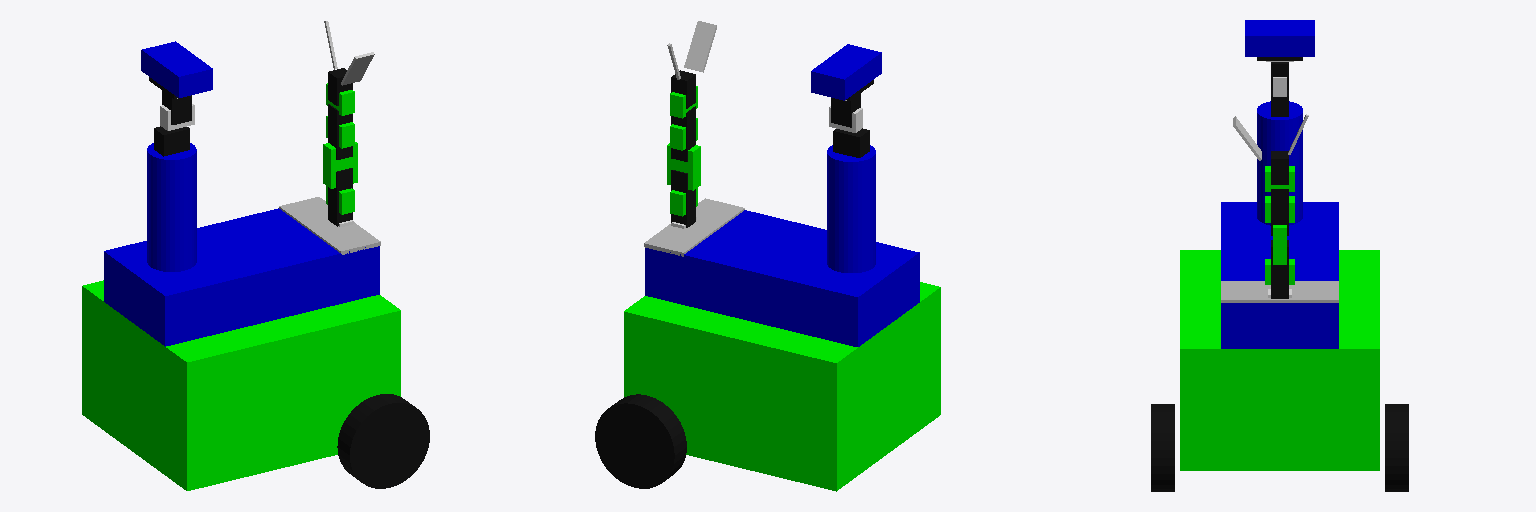
--- Render facts (derived) ---
3 views of the same robot in one strip: view 1: azimuth 30°, elevation 25°; view 2: azimuth 150°, elevation 25°; view 3: azimuth 270°, elevation 25° (orthographic).
Robot: robbie — 29 links, 28 joints (8 revolute, 20 fixed); root link base_link; default pose: all joints at 0.
Visible links, largest first — view 1: base_link, deck_link, l_wheel_link, torso_link, kinect_link, arm_shoulder_tilt_link, elbow_bracket, head_pan_link, head_tilt_link, right_finger_link, gripper_link; view 2: base_link, deck_link, r_wheel_link, torso_link, kinect_link, arm_shoulder_tilt_link, right_finger_link, head_pan_link, elbow_bracket, head_tilt_link, gripper_link; view 3: base_link, deck_link, torso_link, kinect_link, arm_shoulder_tilt_link, r_wheel_link, l_wheel_link, gripper_link, elbow_bracket.
Boxes of the visible links, bbox=[...] form: base_link: bbox=[82, 280, 400, 490]; deck_link: bbox=[104, 208, 379, 346]; l_wheel_link: bbox=[337, 394, 429, 488]; torso_link: bbox=[147, 143, 196, 271]; kinect_link: bbox=[141, 41, 212, 97]; arm_shoulder_tilt_link: bbox=[279, 197, 380, 254]; elbow_bracket: bbox=[323, 142, 357, 188]; head_pan_link: bbox=[154, 126, 189, 156]; head_tilt_link: bbox=[162, 91, 191, 124]; right_finger_link: bbox=[341, 52, 374, 85]; gripper_link: bbox=[328, 68, 352, 105]; base_link: bbox=[624, 282, 940, 491]; deck_link: bbox=[645, 210, 919, 346]; r_wheel_link: bbox=[595, 394, 686, 488]; torso_link: bbox=[827, 145, 875, 272]; kinect_link: bbox=[811, 44, 881, 100]; arm_shoulder_tilt_link: bbox=[644, 198, 744, 256]; right_finger_link: bbox=[684, 21, 716, 72]; head_pan_link: bbox=[833, 128, 869, 157]; elbow_bracket: bbox=[667, 143, 700, 190]; head_tilt_link: bbox=[831, 93, 860, 127]; gripper_link: bbox=[671, 70, 695, 108]; base_link: bbox=[1180, 250, 1379, 470]; deck_link: bbox=[1221, 202, 1338, 348]; torso_link: bbox=[1257, 101, 1302, 225]; kinect_link: bbox=[1245, 20, 1314, 56]; arm_shoulder_tilt_link: bbox=[1221, 281, 1338, 302]; r_wheel_link: bbox=[1385, 404, 1408, 491]; l_wheel_link: bbox=[1151, 404, 1174, 491]; gripper_link: bbox=[1271, 151, 1288, 184]; elbow_bracket: bbox=[1273, 225, 1286, 264].
Bounding box of the posed robot: 0.425 × 0.4401 × 0.7391 m (x, y, z).
Geometry: primitives only (box / cylinder / sphere), no mesh files.

The robot description file, URDF, robot "robbie":
<?xml version="1.0" ?>
<!-- =================================================================================== -->
<!-- |    This document was autogenerated by xacro from robbie.xacro                   | -->
<!-- |    EDITING THIS FILE BY HAND IS NOT RECOMMENDED                                 | -->
<!-- =================================================================================== -->
<!-- XML namespaces -->
<robot name="robbie" xmlns:controller="http://playerstage.sourceforge.net/gazebo/xmlschema/#controller" xmlns:interface="http://playerstage.sourceforge.net/gazebo/xmlschema/#interface" xmlns:sensor="http://playerstage.sourceforge.net/gazebo/xmlschema/#sensor" xmlns:xacro="http://ros.org/wiki/xacro">
  <!-- ============================  A Few Color Macros  ============================ -->
  <!-- ============================   A Few Shape Macros  ============================ -->
  <!-- ============================   Link Definitions  ============================ -->
  <link name="base_link">
    <visual>
      <origin rpy="0 0 0" xyz="0 0 .17"/>
      <geometry>
        <box size="0.4 0.34 0.23"/>
      </geometry>
      <material name="green1">
        <color rgba="0 1 0 1.0"/>
      </material>
    </visual>
    <collision>
      <origin rpy="0 0 0" xyz="0 0 .17"/>
      <geometry>
        <box size="0.4 0.34 0.23"/>
      </geometry>
    </collision>
    <inertial>
      <mass value="0.1"/>
      <inertia ixx="0.001" ixy="0.0" ixz="0.0" iyy="0.001" iyz="0.0" izz="0.001"/>
    </inertial>
  </link>
  <gazebo reference="base_link">
    <material>Gazebo/FlatBlack</material>
    <selfCollide>false</selfCollide>
    <turnGravityOff>true</turnGravityOff>
  </gazebo>
  <link name="r_wheel_link">
    <visual>
      <origin rpy="1.57 0 0" xyz="0 0 0"/>
      <geometry>
        <cylinder length="0.04" radius="0.075"/>
      </geometry>
      <material name="black">
        <color rgba="0.1 0.1 0.1 1.0"/>
      </material>
    </visual>
    <collision>
      <origin rpy="1.57 0 0" xyz="0 0 0"/>
      <geometry>
        <cylinder length="0.04" radius="0.075"/>
      </geometry>
    </collision>
    <inertial>
      <mass value="0.1"/>
      <inertia ixx="0.001" ixy="0.0" ixz="0.0" iyy="0.001" iyz="0.0" izz="0.001"/>
    </inertial>
  </link>
  <gazebo reference="r_wheel_link">
    <material>Gazebo/FlatBlack</material>
    <selfCollide>false</selfCollide>
    <turnGravityOff>true</turnGravityOff>
  </gazebo>
  <link name="l_wheel_link">
    <visual>
      <origin rpy="1.57 0 0" xyz="0 0 0"/>
      <geometry>
        <cylinder length="0.04" radius="0.075"/>
      </geometry>
      <material name="black">
        <color rgba="0.1 0.1 0.1 1.0"/>
      </material>
    </visual>
    <collision>
      <origin rpy="1.57 0 0" xyz="0 0 0"/>
      <geometry>
        <cylinder length="0.04" radius="0.075"/>
      </geometry>
    </collision>
    <inertial>
      <mass value="0.1"/>
      <inertia ixx="0.001" ixy="0.0" ixz="0.0" iyy="0.001" iyz="0.0" izz="0.001"/>
    </inertial>
  </link>
  <gazebo reference="l_wheel_link">
    <material>Gazebo/FlatBlack</material>
    <selfCollide>false</selfCollide>
    <turnGravityOff>true</turnGravityOff>
  </gazebo>
  <link name="deck_link">
    <visual>
      <origin rpy="0 0 0" xyz="0 0 0"/>
      <geometry>
        <box size="0.4 0.2 0.09"/>
      </geometry>
      <material name="blue1">
        <color rgba="0 0 0.9 1.0"/>
      </material>
    </visual>
    <collision>
      <origin rpy="0 0 0" xyz="0 0 0"/>
      <geometry>
        <box size="0.4 0.2 0.09"/>
      </geometry>
    </collision>
    <inertial>
      <mass value="0.1"/>
      <inertia ixx="0.001" ixy="0.0" ixz="0.0" iyy="0.001" iyz="0.0" izz="0.001"/>
    </inertial>
  </link>
  <gazebo reference="deck_link">
    <material>Gazebo/FlatBlack</material>
    <selfCollide>false</selfCollide>
    <turnGravityOff>true</turnGravityOff>
  </gazebo>
  <link name="arm_shoulder_tilt_link">
    <visual>
      <origin rpy="0 0 0" xyz="0 0 0"/>
      <geometry>
        <box size="0.075 0.2 0.007"/>
      </geometry>
      <material name="grey1">
        <color rgba="0.75 0.75 0.75 1.0"/>
      </material>
    </visual>
    <collision>
      <origin rpy="0 0 0" xyz="0 0 0"/>
      <geometry>
        <box size="0.075 0.2 0.007"/>
      </geometry>
    </collision>
    <inertial>
      <mass value="2.91"/>
      <inertia ixx="0.001" ixy="0.0" ixz="0.0" iyy="0.001" iyz="0.0" izz="0.001"/>
    </inertial>
  </link>
  <gazebo reference="arm_shoulder_tilt_link">
    <material>Gazebo/Grey</material>
    <selfCollide>false</selfCollide>
    <turnGravityOff>true</turnGravityOff>
  </gazebo>
  <link name="arm_pan_tilt_bracket">
    <visual>
      <origin rpy="0 0 0" xyz="0 0 0"/>
      <geometry>
        <box size="0.025 0.04 0.006"/>
      </geometry>
      <material name="bracket_color">
        <color rgba="0.9 0.9 0.9 1.0"/>
      </material>
    </visual>
    <collision>
      <origin rpy="0 0 0" xyz="0 0 0"/>
      <geometry>
        <box size="0.025 0.04 0.006"/>
      </geometry>
    </collision>
    <inertial>
      <mass value="0.02"/>
      <inertia ixx="0.001" ixy="0.0" ixz="0.0" iyy="0.001" iyz="0.0" izz="0.001"/>
    </inertial>
  </link>
  <gazebo reference="arm_pan_tilt_bracket">
    <material>Gazebo/WhiteEmissive</material>
    <selfCollide>false</selfCollide>
    <turnGravityOff>true</turnGravityOff>
  </gazebo>
  <link name="elbow_tilt_link">
    <visual>
      <origin rpy="0 0 0" xyz="0 0 0"/>
      <geometry>
        <box size="0.03 0.03 0.05"/>
      </geometry>
      <material name="ax12_color">
        <color rgba="0.1 0.1 0.1 1.0"/>
      </material>
    </visual>
    <collision>
      <origin rpy="0 0 0" xyz="0 0 0"/>
      <geometry>
        <box size="0.03 0.03 0.05"/>
      </geometry>
    </collision>
    <inertial>
      <mass value="0.055"/>
      <inertia ixx="0.001" ixy="0.0" ixz="0.0" iyy="0.001" iyz="0.0" izz="0.001"/>
    </inertial>
  </link>
  <gazebo reference="elbow_tilt_link">
    <material>Gazebo/FlatBlack</material>
    <selfCollide>false</selfCollide>
    <turnGravityOff>true</turnGravityOff>
  </gazebo>
  <link name="arm_tilt_link">
    <visual>
      <origin rpy="0 0 0" xyz="0 0 0"/>
      <geometry>
        <box size="0.03 0.03 0.05"/>
      </geometry>
      <material name="ax12_color">
        <color rgba="0.1 0.1 0.1 1.0"/>
      </material>
    </visual>
    <collision>
      <origin rpy="0 0 0" xyz="0 0 0"/>
      <geometry>
        <box size="0.03 0.03 0.05"/>
      </geometry>
    </collision>
    <inertial>
      <mass value="0.055"/>
      <inertia ixx="0.001" ixy="0.0" ixz="0.0" iyy="0.001" iyz="0.0" izz="0.001"/>
    </inertial>
  </link>
  <gazebo reference="arm_tilt_link">
    <material>Gazebo/FlatBlack</material>
    <selfCollide>false</selfCollide>
    <turnGravityOff>true</turnGravityOff>
  </gazebo>
  <link name="arm_bracket">
    <visual>
      <origin rpy="0 0 0" xyz="0 0 0.021"/>
      <geometry>
        <box size="0.025 0.05 0.038"/>
      </geometry>
      <material name="green1">
        <color rgba="0 1 0 1.0"/>
      </material>
    </visual>
    <collision>
      <origin rpy="0 0 0" xyz="0 0 0.021"/>
      <geometry>
        <box size="0.025 0.05 0.038"/>
      </geometry>
    </collision>
    <inertial>
      <mass value="0.05"/>
      <inertia ixx="0.001" ixy="0.0" ixz="0.0" iyy="0.001" iyz="0.0" izz="0.001"/>
    </inertial>
  </link>
  <gazebo reference="arm_bracket">
    <material>Gazebo/WhiteEmissive</material>
    <selfCollide>false</selfCollide>
    <turnGravityOff>true</turnGravityOff>
  </gazebo>
  <link name="elbow_bracket">
    <visual>
      <origin rpy="0 0 0" xyz="0 0 0.021"/>
      <geometry>
        <box size="0.05 0.025 0.07"/>
      </geometry>
      <material name="green1">
        <color rgba="0 1 0 1.0"/>
      </material>
    </visual>
    <collision>
      <origin rpy="0 0 0" xyz="0 0 0.021"/>
      <geometry>
        <box size="0.05 0.025 0.07"/>
      </geometry>
    </collision>
    <inertial>
      <mass value="0.05"/>
      <inertia ixx="0.001" ixy="0.0" ixz="0.0" iyy="0.001" iyz="0.0" izz="0.001"/>
    </inertial>
  </link>
  <gazebo reference="elbow_bracket">
    <material>Gazebo/WhiteEmissive</material>
    <selfCollide>false</selfCollide>
    <turnGravityOff>true</turnGravityOff>
  </gazebo>
  <link name="wrist_pan_link">
    <visual>
      <origin rpy="0 0 0" xyz="0 0 0.021"/>
      <geometry>
        <box size="0.03 0.03 0.05"/>
      </geometry>
      <material name="ax12_color">
        <color rgba="0.1 0.1 0.1 1.0"/>
      </material>
    </visual>
    <collision>
      <origin rpy="0 0 0" xyz="0 0 0.021"/>
      <geometry>
        <box size="0.03 0.03 0.05"/>
      </geometry>
    </collision>
    <inertial>
      <mass value="0.055"/>
      <inertia ixx="0.001" ixy="0.0" ixz="0.0" iyy="0.001" iyz="0.0" izz="0.001"/>
    </inertial>
  </link>
  <gazebo reference="wrist_pan_link">
    <material>Gazebo/FlatBlack</material>
    <selfCollide>false</selfCollide>
    <turnGravityOff>true</turnGravityOff>
  </gazebo>
  <link name="wrist_bracket">
    <visual>
      <origin rpy="0 0 0" xyz="0 0 0.021"/>
      <geometry>
        <box size="0.025 0.05 0.038"/>
      </geometry>
      <material name="green1">
        <color rgba="0 1 0 1.0"/>
      </material>
    </visual>
    <collision>
      <origin rpy="0 0 0" xyz="0 0 0.021"/>
      <geometry>
        <box size="0.025 0.05 0.038"/>
      </geometry>
    </collision>
    <inertial>
      <mass value="0.05"/>
      <inertia ixx="0.001" ixy="0.0" ixz="0.0" iyy="0.001" iyz="0.0" izz="0.001"/>
    </inertial>
  </link>
  <gazebo reference="wrist_bracket">
    <material>Gazebo/WhiteEmissive</material>
    <selfCollide>false</selfCollide>
    <turnGravityOff>true</turnGravityOff>
  </gazebo>
  <link name="wrist_tilt_link">
    <visual>
      <origin rpy="0 0 0" xyz="0 0 0.021"/>
      <geometry>
        <box size="0.03 0.03 0.05"/>
      </geometry>
      <material name="ax12_color">
        <color rgba="0.1 0.1 0.1 1.0"/>
      </material>
    </visual>
    <collision>
      <origin rpy="0 0 0" xyz="0 0 0.021"/>
      <geometry>
        <box size="0.03 0.03 0.05"/>
      </geometry>
    </collision>
    <inertial>
      <mass value="0.055"/>
      <inertia ixx="0.001" ixy="0.0" ixz="0.0" iyy="0.001" iyz="0.0" izz="0.001"/>
    </inertial>
  </link>
  <gazebo reference="wrist_tilt_link">
    <material>Gazebo/FlatBlack</material>
    <selfCollide>false</selfCollide>
    <turnGravityOff>true</turnGravityOff>
  </gazebo>
  <link name="gripper_bracket">
    <visual>
      <origin rpy="0 0 0" xyz="0 0 0.021"/>
      <geometry>
        <box size="0.025 0.05 0.038"/>
      </geometry>
      <material name="green1">
        <color rgba="0 1 0 1.0"/>
      </material>
    </visual>
    <collision>
      <origin rpy="0 0 0" xyz="0 0 0.021"/>
      <geometry>
        <box size="0.025 0.05 0.038"/>
      </geometry>
    </collision>
    <inertial>
      <mass value="0.05"/>
      <inertia ixx="0.001" ixy="0.0" ixz="0.0" iyy="0.001" iyz="0.0" izz="0.001"/>
    </inertial>
  </link>
  <gazebo reference="gripper_bracket">
    <material>Gazebo/WhiteEmissive</material>
    <selfCollide>false</selfCollide>
    <turnGravityOff>true</turnGravityOff>
  </gazebo>
  <link name="gripper_link">
    <visual>
      <origin rpy="0 0 0" xyz="0 0 0.021"/>
      <geometry>
        <box size="0.03 0.03 0.05"/>
      </geometry>
      <material name="ax12_color">
        <color rgba="0.1 0.1 0.1 1.0"/>
      </material>
    </visual>
    <collision>
      <origin rpy="0 0 0" xyz="0 0 0.021"/>
      <geometry>
        <box size="0.03 0.03 0.05"/>
      </geometry>
    </collision>
    <inertial>
      <mass value="0.055"/>
      <inertia ixx="0.001" ixy="0.0" ixz="0.0" iyy="0.001" iyz="0.0" izz="0.001"/>
    </inertial>
  </link>
  <gazebo reference="gripper_link">
    <material>Gazebo/FlatBlack</material>
    <selfCollide>false</selfCollide>
    <turnGravityOff>true</turnGravityOff>
  </gazebo>
  <link name="right_finger_link">
    <visual>
      <origin rpy="0 0 0" xyz="0 0 0.08"/>
      <geometry>
        <box size="0.035 0.005 0.08"/>
      </geometry>
      <material name="grey3">
        <color rgba="0.8 0.8 0.8 1.0"/>
      </material>
    </visual>
    <collision>
      <origin rpy="0 0 0" xyz="0 0 0.08"/>
      <geometry>
        <box size="0.035 0.005 0.08"/>
      </geometry>
    </collision>
    <inertial>
      <mass value="0.1"/>
      <inertia ixx="0.001" ixy="0.0" ixz="0.0" iyy="0.001" iyz="0.0" izz="0.001"/>
    </inertial>
  </link>
  <gazebo reference="right_finger_link">
    <material>Gazebo/FlatBlack</material>
    <selfCollide>false</selfCollide>
    <turnGravityOff>true</turnGravityOff>
  </gazebo>
  <link name="left_finger_link">
    <visual>
      <origin rpy="0 0 0" xyz="0 0 0.08"/>
      <geometry>
        <box size="0.005 0.005 0.08"/>
      </geometry>
      <material name="grey3">
        <color rgba="0.8 0.8 0.8 1.0"/>
      </material>
    </visual>
    <collision>
      <origin rpy="0 0 0" xyz="0 0 0.08"/>
      <geometry>
        <box size="0.005 0.005 0.08"/>
      </geometry>
    </collision>
    <inertial>
      <mass value="0.1"/>
      <inertia ixx="0.001" ixy="0.0" ixz="0.0" iyy="0.001" iyz="0.0" izz="0.001"/>
    </inertial>
  </link>
  <gazebo reference="left_finger_link">
    <material>Gazebo/FlatBlack</material>
    <selfCollide>false</selfCollide>
    <turnGravityOff>true</turnGravityOff>
  </gazebo>
  <link name="torso_link">
    <visual>
      <origin rpy="0 0 0" xyz="0 0 0"/>
      <geometry>
        <cylinder length="0.2" radius="0.04"/>
      </geometry>
      <material name="blue1">
        <color rgba="0 0 0.9 1.0"/>
      </material>
    </visual>
    <collision>
      <origin rpy="0 0 0" xyz="0 0 0"/>
      <geometry>
        <cylinder length="0.2" radius="0.04"/>
      </geometry>
    </collision>
    <inertial>
      <mass value="0.25"/>
      <inertia ixx="0.001" ixy="0.0" ixz="0.0" iyy="0.001" iyz="0.0" izz="0.001"/>
    </inertial>
  </link>
  <gazebo reference="torso_link">
    <material>Gazebo/WhiteEmissive</material>
    <selfCollide>false</selfCollide>
    <turnGravityOff>true</turnGravityOff>
  </gazebo>
  <link name="head_pan_link">
    <visual>
      <origin rpy="0 0 0" xyz="0 0 0"/>
      <geometry>
        <box size="0.05 0.032 0.038"/>
      </geometry>
      <material name="ax12_color">
        <color rgba="0.1 0.1 0.1 1.0"/>
      </material>
    </visual>
    <collision>
      <origin rpy="0 0 0" xyz="0 0 0"/>
      <geometry>
        <box size="0.05 0.032 0.038"/>
      </geometry>
    </collision>
    <inertial>
      <mass value="0.055"/>
      <inertia ixx="0.001" ixy="0.0" ixz="0.0" iyy="0.001" iyz="0.0" izz="0.001"/>
    </inertial>
  </link>
  <gazebo reference="head_pan_link">
    <material>Gazebo/FlatBlack</material>
    <selfCollide>false</selfCollide>
    <turnGravityOff>true</turnGravityOff>
  </gazebo>
  <link name="pan_tilt_bracket">
    <visual>
      <origin rpy="0 0 0" xyz="0 0 0"/>
      <geometry>
        <box size="0.05 0.025 0.035"/>
      </geometry>
      <material name="bracket_color">
        <color rgba="0.9 0.9 0.9 1.0"/>
      </material>
    </visual>
    <collision>
      <origin rpy="0 0 0" xyz="0 0 0"/>
      <geometry>
        <box size="0.05 0.025 0.038"/>
      </geometry>
    </collision>
    <inertial>
      <mass value="0.02"/>
      <inertia ixx="0.001" ixy="0.0" ixz="0.0" iyy="0.001" iyz="0.0" izz="0.001"/>
    </inertial>
  </link>
  <gazebo reference="pan_tilt_bracket">
    <material>Gazebo/WhiteEmissive</material>
    <selfCollide>false</selfCollide>
    <turnGravityOff>true</turnGravityOff>
  </gazebo>
  <link name="head_tilt_link">
    <visual>
      <origin rpy="0 1.57 0" xyz="0 0 0"/>
      <geometry>
        <box size="0.05 0.032 0.038"/>
      </geometry>
      <material name="ax12_color">
        <color rgba="0.1 0.1 0.1 1.0"/>
      </material>
    </visual>
    <collision>
      <origin rpy="0 1.57 0" xyz="0 0 0"/>
      <geometry>
        <box size="0.05 0.032 0.038"/>
      </geometry>
    </collision>
    <inertial>
      <mass value="0.055"/>
      <inertia ixx="0.001" ixy="0.0" ixz="0.0" iyy="0.001" iyz="0.0" izz="0.001"/>
    </inertial>
  </link>
  <gazebo reference="head_tilt_link">
    <material>Gazebo/FlatBlack</material>
    <selfCollide>false</selfCollide>
    <turnGravityOff>true</turnGravityOff>
  </gazebo>
  <link name="neck_link">
    <visual>
      <origin rpy="0 0 0" xyz="0 0 0.02"/>
      <geometry>
        <box size="0.028 0.048 0.01"/>
      </geometry>
      <material name="bracket_color">
        <color rgba="0.9 0.9 0.9 1.0"/>
      </material>
    </visual>
    <collision>
      <origin rpy="0 0 0" xyz="0 0 0.02"/>
      <geometry>
        <box size="0.028 0.048 0.01"/>
      </geometry>
    </collision>
    <inertial>
      <mass value="0.05"/>
      <inertia ixx="0.001" ixy="0.0" ixz="0.0" iyy="0.001" iyz="0.0" izz="0.001"/>
    </inertial>
  </link>
  <gazebo reference="neck_link">
    <material>Gazebo/WhiteEmissive</material>
    <selfCollide>false</selfCollide>
    <turnGravityOff>true</turnGravityOff>
  </gazebo>
  <link name="head_base_link">
    <visual>
      <origin rpy="0 0 0" xyz="0 0 0"/>
      <geometry>
        <box size="0.06 0.08 0.01"/>
      </geometry>
      <material name="black">
        <color rgba="0.1 0.1 0.1 1.0"/>
      </material>
    </visual>
    <collision>
      <origin rpy="0 0 0" xyz="0 0 0"/>
      <geometry>
        <box size="0.06 0.08 0.01"/>
      </geometry>
    </collision>
    <inertial>
      <mass value="0.1"/>
      <inertia ixx="0.001" ixy="0.0" ixz="0.0" iyy="0.001" iyz="0.0" izz="0.001"/>
    </inertial>
  </link>
  <gazebo reference="head_base_link">
    <material>Gazebo/FlatBlack</material>
    <selfCollide>false</selfCollide>
    <turnGravityOff>true</turnGravityOff>
  </gazebo>
  <link name="head_post_link">
    <visual>
      <origin rpy="0 0 0" xyz="0 0 0"/>
      <geometry>
        <cylinder length="0.01" radius="0.005"/>
      </geometry>
      <material name="grey3">
        <color rgba="0.8 0.8 0.8 1.0"/>
      </material>
    </visual>
    <collision>
      <origin rpy="0 0 0" xyz="0 0 0"/>
      <geometry>
        <cylinder length="0.01" radius="0.005"/>
      </geometry>
    </collision>
    <inertial>
      <mass value="0.1"/>
      <inertia ixx="0.001" ixy="0.0" ixz="0.0" iyy="0.001" iyz="0.0" izz="0.001"/>
    </inertial>
  </link>
  <gazebo reference="head_post_link">
    <material>Gazebo/WhiteEmissive</material>
    <selfCollide>false</selfCollide>
    <turnGravityOff>true</turnGravityOff>
  </gazebo>
  <link name="kinect_link">
    <visual>
      <geometry>
        <box size="0.064 0.121 0.0381"/>
      </geometry>
      <material name="black">
        <color rgba="0 0 0.9 1.0"/>
      </material>
    </visual>
    <inertial>
      <mass value="0.0001"/>
      <origin xyz="0 0 0"/>
      <inertia ixx="0.0001" ixy="0.0" ixz="0.0" iyy="0.0001" iyz="0.0" izz="0.0001"/>
    </inertial>
  </link>
  <!-- =================== Joint Definitions ==================== -->
  <joint name="base_link_joint" type="fixed">
    <parent link="base_link"/>
    <child link="deck_link"/>
    <origin rpy="0 0 0" xyz="0 0 .33"/>
  </joint>
  <joint name="r_wheel_joint" type="fixed">
    <parent link="base_link"/>
    <child link="r_wheel_link"/>
    <origin rpy="0 0 0" xyz="0.15 0.2 0.075"/>
  </joint>
  <joint name="l_wheel_joint" type="fixed">
    <parent link="base_link"/>
    <child link="l_wheel_link"/>
    <origin rpy="0 0 0" xyz="0.15 -0.2 0.075"/>
  </joint>
  <joint name="arm_pan_tilt_bracket" type="fixed">
    <parent link="deck_link"/>
    <child link="arm_shoulder_tilt_link"/>
    <origin rpy="0 0 0" xyz="0.165 0 .045"/>
    <axis xyz="0 0 1"/>
    <limit effort="10" lower="-3.1416" upper="3.1416" velocity="3"/>
    <dynamics damping="0.0"/>
  </joint>
  <joint name="shoulder_pan_joint" type="revolute">
    <parent link="arm_shoulder_tilt_link"/>
    <child link="arm_pan_tilt_bracket"/>
    <origin rpy="0 0 0" xyz=".02 0 .006"/>
    <axis xyz="0 0 1"/>
    <limit effort="10" lower="-3.1416" upper="3.1416" velocity="3"/>
  </joint>
  <joint name="arm_tilt1_joint" type="fixed">
    <parent link="arm_pan_tilt_bracket"/>
    <child link="arm_tilt_link"/>
    <origin rpy="0 0 0" xyz="0 0 0.02"/>
    <axis xyz="0 0 0"/>
    <limit effort="10" lower="-3.1416" upper="3.1416" velocity="3"/>
    <dynamics damping="0.0"/>
  </joint>
  <joint name="arm_tilt_joint" type="revolute">
    <parent link="arm_tilt_link"/>
    <child link="arm_bracket"/>
    <origin rpy="0 0 0" xyz="0 0 0.0"/>
    <axis xyz="0 1 0"/>
    <limit effort="10" lower="-3.1416" upper="3.1416" velocity="3"/>
    <dynamics damping="0.0"/>
  </joint>
  <joint name="arm_bracket" type="fixed">
    <parent link="arm_bracket"/>
    <child link="elbow_tilt_link"/>
    <origin rpy="0 0 0" xyz="0 0 0.05"/>
  </joint>
  <joint name="elbow_tilt_joint" type="revolute">
    <parent link="elbow_tilt_link"/>
    <child link="elbow_bracket"/>
    <origin rpy="0 0 0" xyz="0 0 0.01"/>
    <axis xyz="0 1 0"/>
    <limit effort="10" lower="-3.1416" upper="3.1416" velocity="3"/>
    <dynamics damping="0.0"/>
  </joint>
  <joint name="wrist_pan_joint" type="revolute">
    <parent link="elbow_bracket"/>
    <child link="wrist_pan_link"/>
    <origin rpy="0 0 0" xyz="0 0 0.04"/>
    <axis xyz="1 0 0"/>
    <limit effort="10" lower="-3.1416" upper="3.1416" velocity="3"/>
    <dynamics damping="0.0"/>
  </joint>
  <joint name="wrist_joint" type="fixed">
    <parent link="wrist_pan_link"/>
    <child link="wrist_bracket"/>
    <origin rpy="0 0 0" xyz="0 0 0.018"/>
  </joint>
  <joint name="wrist_tilt_joint" type="revolute">
    <parent link="wrist_bracket"/>
    <child link="wrist_tilt_link"/>
    <origin rpy="0 0 0" xyz="0 0 0.02"/>
    <axis xyz="0 1 0"/>
    <limit effort="10" lower="-3.1416" upper="3.1416" velocity="3"/>
    <dynamics damping="0.0"/>
  </joint>
  <joint name="gripper_bracket" type="fixed">
    <parent link="wrist_tilt_link"/>
    <child link="gripper_bracket"/>
    <origin rpy="0 0 0" xyz="0 0 0.038"/>
  </joint>
  <joint name="gripper_link" type="fixed">
    <parent link="gripper_bracket"/>
    <child link="gripper_link"/>
    <origin rpy="0 0 0" xyz="0 0 0.02"/>
    <axis xyz="0 1 0"/>
    <limit effort="10" lower="-3.1416" upper="3.1416" velocity="3"/>
    <dynamics damping="0.0"/>
  </joint>
  <joint name="palm_link" type="fixed">
    <parent link="gripper_link"/>
    <child link="left_finger_link"/>
    <origin rpy="-0.4 0 0" xyz="0 0.0 0.01"/>
  </joint>
  <joint name="gripper_joint" type="revolute">
    <parent link="gripper_link"/>
    <child link="right_finger_link"/>
    <origin rpy="0.6 0 0" xyz="0 -0.01 0.01"/>
    <axis xyz="1 0 0"/>
    <limit effort="10" lower="-0.98" upper="0.15" velocity="3"/>
    <dynamics damping="0.0"/>
  </joint>
  <joint name="torso_joint" type="fixed">
    <parent link="deck_link"/>
    <child link="torso_link"/>
    <origin rpy="0 0 0" xyz="-0.13 0 0.15"/>
  </joint>
  <joint name="head_pan_servo" type="fixed">
    <parent link="torso_link"/>
    <child link="head_pan_link"/>
    <origin rpy="0 0 0" xyz="0 0 0.119"/>
  </joint>
  <joint name="pan_tilt_bracket" type="fixed">
    <parent link="head_pan_link"/>
    <child link="pan_tilt_bracket"/>
    <origin rpy="0 0 0" xyz="0.01 0 0.04"/>
  </joint>
  <joint name="head_pan_joint" type="revolute">
    <parent link="pan_tilt_bracket"/>
    <child link="head_tilt_link"/>
    <origin rpy="0 0 0" xyz="0 0 0.0175"/>
    <axis xyz="0 0 1"/>
    <limit effort="10" lower="-3.1416" upper="3.1416" velocity="3"/>
    <dynamics damping="0.0"/>
  </joint>
  <joint name="head_tilt_joint" type="revolute">
    <parent link="head_tilt_link"/>
    <child link="neck_link"/>
    <origin rpy="0 0 0" xyz="0 0 0.01"/>
    <axis xyz="0 -1 0"/>
    <limit effort="10" lower="-1.57" upper="1.57" velocity="3"/>
    <dynamics damping="0.0"/>
  </joint>
  <joint name="neck_joint" type="fixed">
    <parent link="neck_link"/>
    <child link="head_base_link"/>
    <origin rpy="0 0 0" xyz="0 0 0.03"/>
  </joint>
  <joint name="head_base_joint" type="fixed">
    <parent link="head_base_link"/>
    <child link="head_post_link"/>
    <origin rpy="0 0 0" xyz="0 0 0.0"/>
  </joint>
  <joint name="head_joint" type="fixed">
    <parent link="head_post_link"/>
    <child link="kinect_link"/>
    <origin rpy="0 0 0" xyz="0 0 0.0235"/>
  </joint>
  <joint name="kinect_depth_joint" type="fixed">
    <origin rpy="0 0 0" xyz="0 0.018 0"/>
    <parent link="kinect_link"/>
    <child link="kinect_depth_frame"/>
  </joint>
  <link name="kinect_depth_frame">
    <inertial>
      <mass value="0.0001"/>
      <origin xyz="0 0 0"/>
      <inertia ixx="0.0001" ixy="0.0" ixz="0.0" iyy="0.0001" iyz="0.0" izz="0.0001"/>
    </inertial>
  </link>
  <joint name="kinect_depth_optical_joint" type="fixed">
    <origin rpy="-1.570795 0 -1.570795" xyz="0 0 0"/>
    <parent link="kinect_depth_frame"/>
    <child link="kinect_depth_optical_frame"/>
  </joint>
  <link name="kinect_depth_optical_frame">
    <inertial>
      <mass value="0.0001"/>
      <origin xyz="0 0 0"/>
      <inertia ixx="0.0001" ixy="0.0" ixz="0.0" iyy="0.0001" iyz="0.0" izz="0.0001"/>
    </inertial>
  </link>
  <joint name="kinect_rgb_joint" type="fixed">
    <origin rpy="0 0 0" xyz="0 -0.005 0"/>
    <parent link="kinect_link"/>
    <child link="kinect_rgb_frame"/>
  </joint>
  <link name="kinect_rgb_frame">
    <inertial>
      <mass value="0.0001"/>
      <origin xyz="0 0 0"/>
      <inertia ixx="0.0001" ixy="0.0" ixz="0.0" iyy="0.0001" iyz="0.0" izz="0.0001"/>
    </inertial>
  </link>
  <joint name="kinect_rgb_optical_joint" type="fixed">
    <origin rpy="-1.570795 0 -1.570795" xyz="0 0 0"/>
    <parent link="kinect_rgb_frame"/>
    <child link="kinect_rgb_optical_frame"/>
  </joint>
  <link name="kinect_rgb_optical_frame">
    <inertial>
      <mass value="0.0001"/>
      <origin xyz="0 0 0"/>
      <inertia ixx="0.0001" ixy="0.0" ixz="0.0" iyy="0.0001" iyz="0.0" izz="0.0001"/>
    </inertial>
  </link>
  <gazebo reference="robbie">
  	</gazebo>
</robot>
